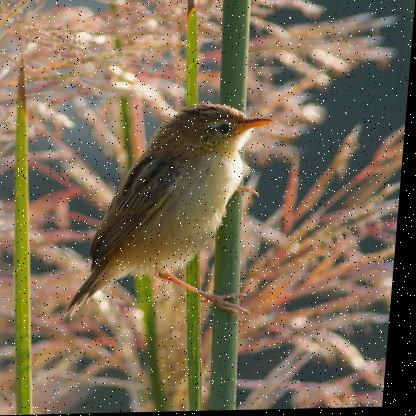Burung: (68, 102, 274, 319)
